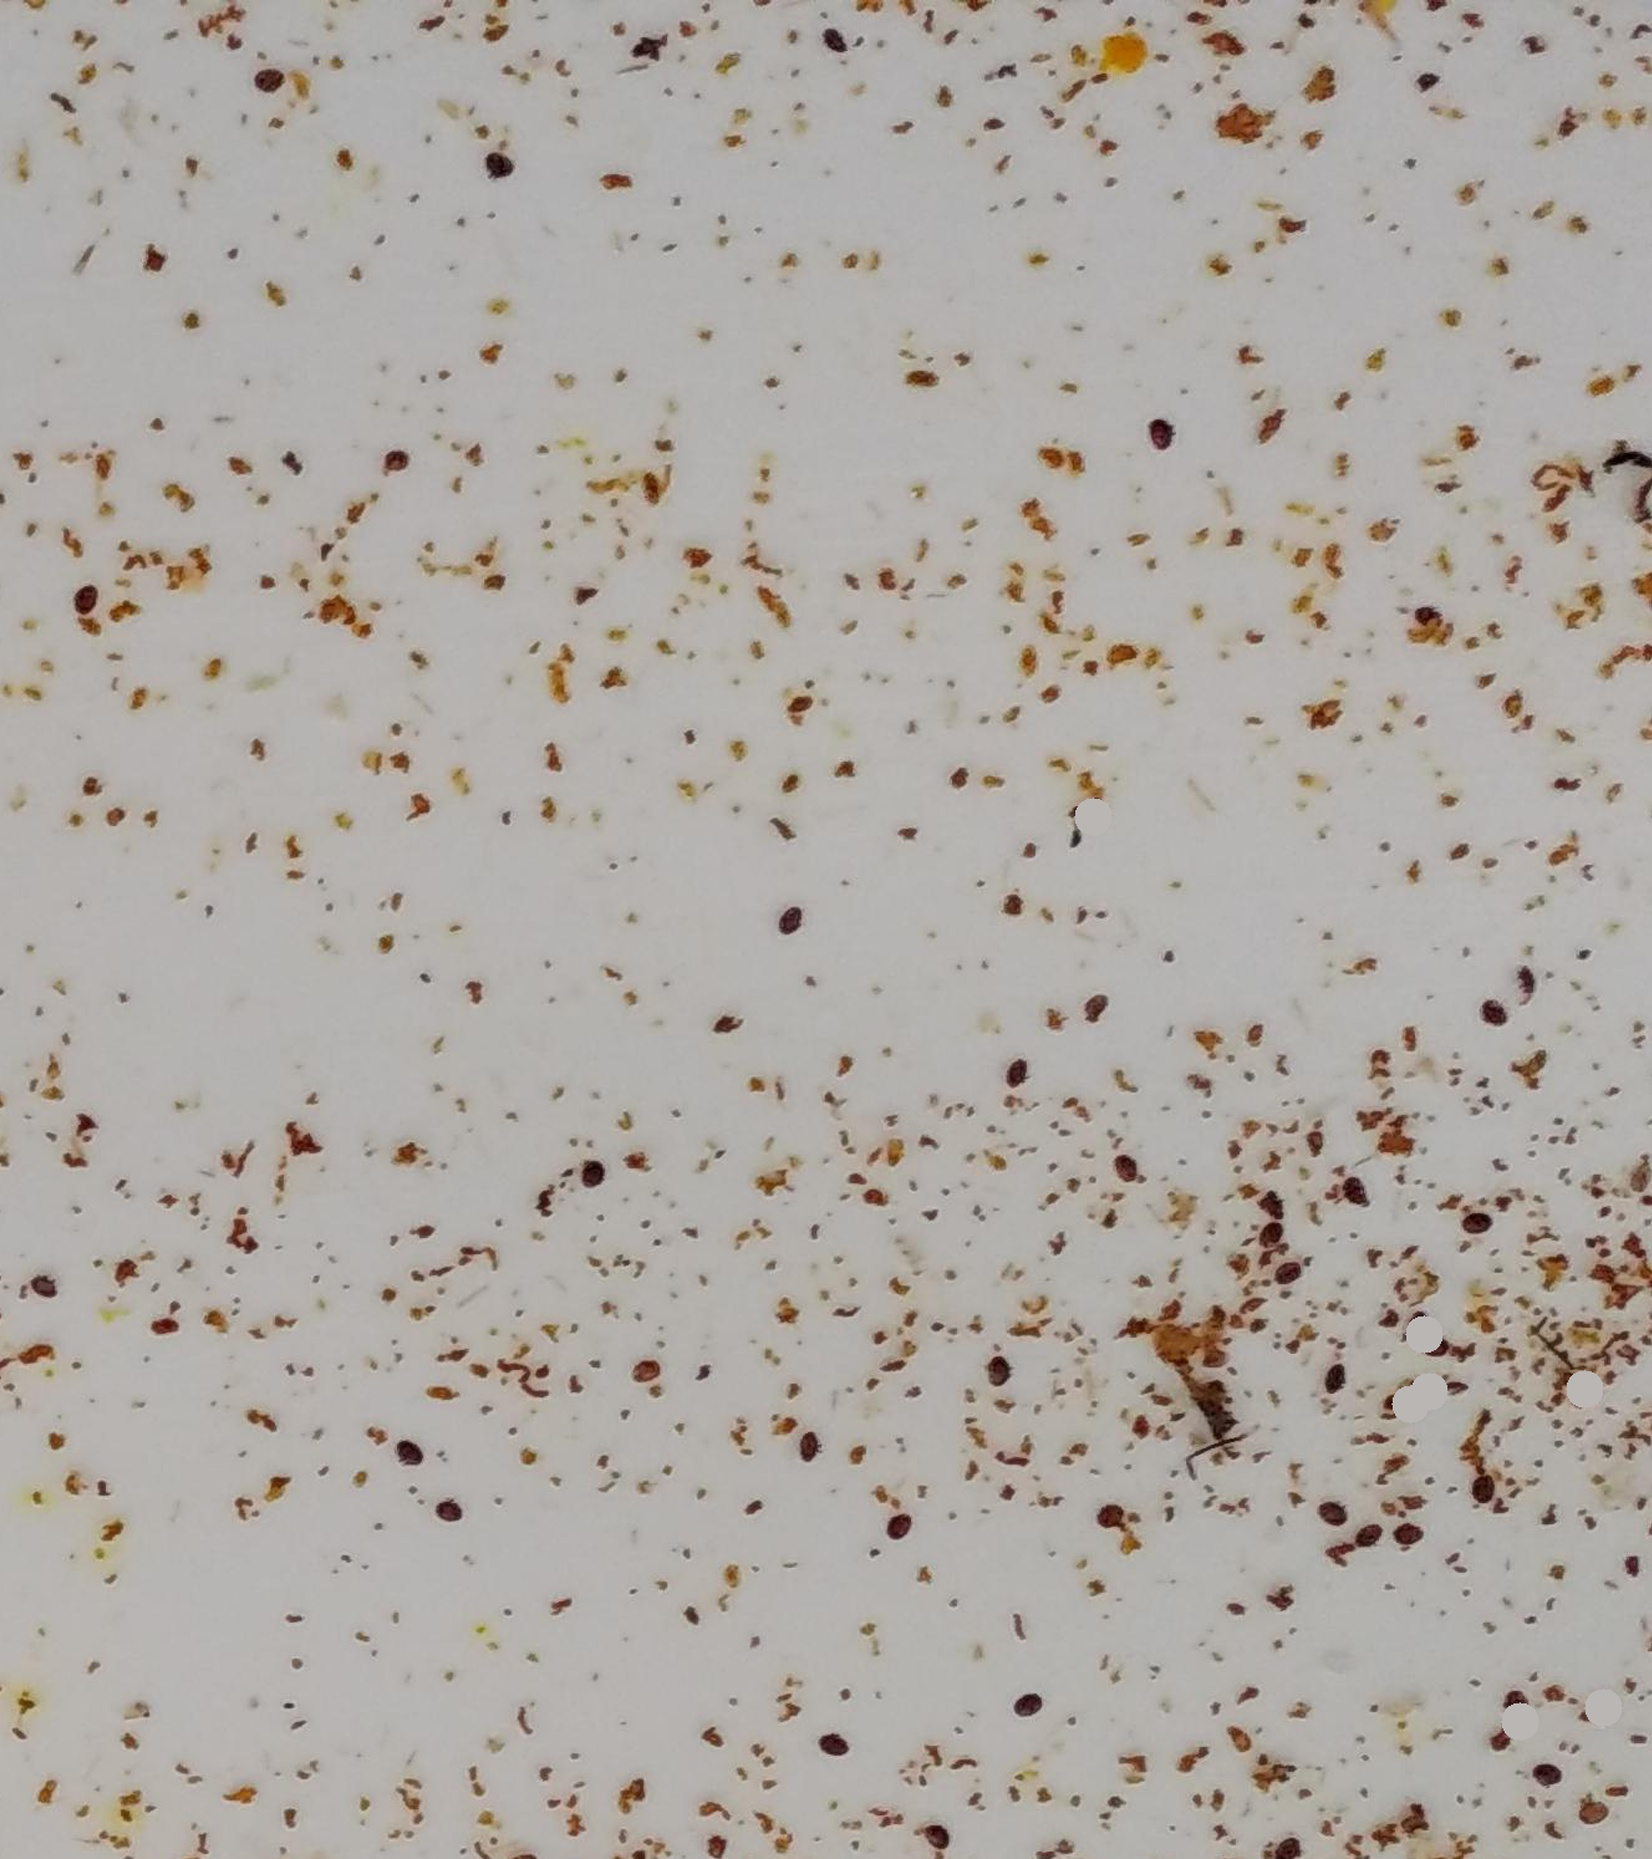Varroa: (1427, 1336, 1459, 1370), (1352, 1515, 1384, 1547), (1108, 1156, 1139, 1188), (998, 1060, 1029, 1091), (1390, 1523, 1421, 1553), (915, 1821, 946, 1849), (1341, 1175, 1370, 1205), (820, 24, 850, 53), (1084, 993, 1111, 1025), (1467, 1475, 1496, 1503), (1143, 421, 1170, 451), (569, 1157, 596, 1188), (791, 1433, 818, 1464), (635, 1357, 662, 1387), (1324, 1358, 1351, 1389), (1462, 1212, 1489, 1240), (30, 1267, 57, 1296), (1580, 1798, 1607, 1827), (431, 1500, 458, 1527), (1497, 1685, 1524, 1712), (1319, 1502, 1344, 1531), (397, 1440, 423, 1467), (384, 442, 408, 470), (73, 587, 99, 612), (1536, 1749, 1561, 1774), (890, 1508, 914, 1534), (990, 1350, 1016, 1374), (257, 73, 277, 97), (491, 155, 513, 175), (1287, 1263, 1304, 1288), (1260, 1215, 1277, 1240), (1019, 1700, 1041, 1719), (1419, 604, 1442, 623), (828, 1731, 848, 1751), (1483, 1003, 1504, 1022), (1274, 1253, 1292, 1275), (1100, 1507, 1119, 1526), (780, 909, 800, 926)
